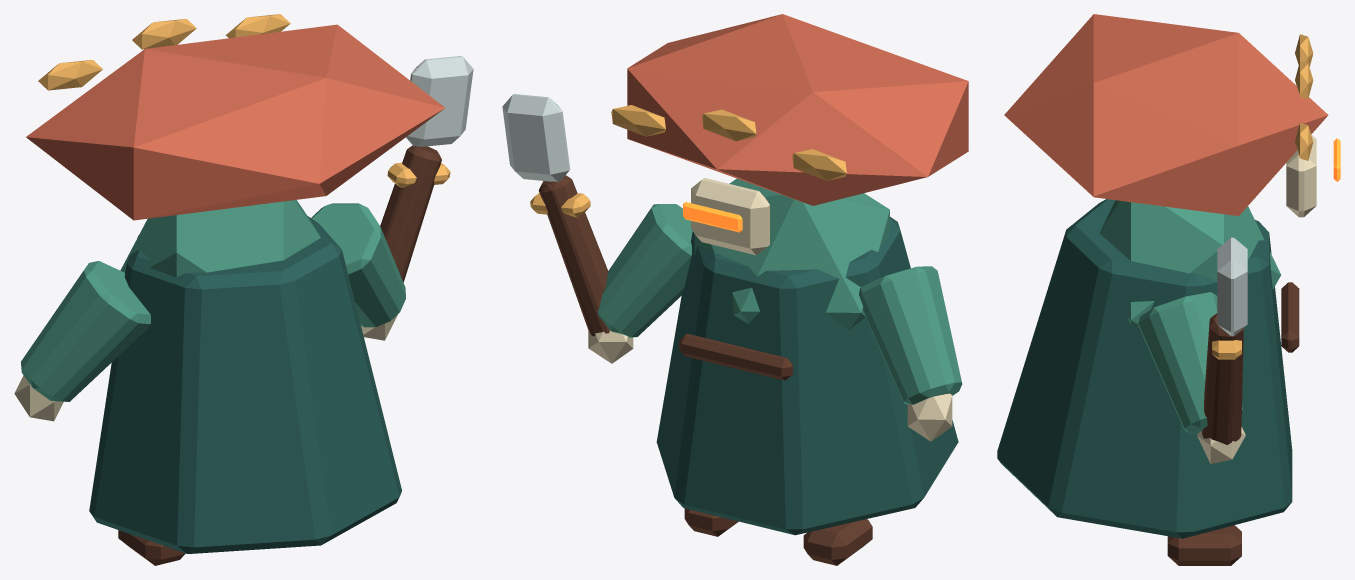
Rendered from rattlecap_runner_v1.glb.
The picture shows the model from 3 angles, left to right: view 1: azimuth 30°, elevation 25°; view 2: azimuth 150°, elevation 25°; view 3: azimuth 270°, elevation 25°; orthographic projection. The views are drawn at different scales.
Visible parts, largest first — view 1: Rattlecap_Cloak, Rattlecap_Cap, Rattlecap_ArmMesh_L, Rattlecap_Torso, Rattlecap_ArmMesh_R, Rattlecap_Cleaver, Rattlecap_CleaverGrip, Rattlecap_CapMark_0, Rattlecap_CapMark_1, Rattlecap_Hand_L, Rattlecap_Boot_L, Rattlecap_CapMark_2 (+1 smaller); view 2: Rattlecap_Cloak, Rattlecap_Cap, Rattlecap_Torso, Rattlecap_ArmMesh_L, Rattlecap_ArmMesh_R, Rattlecap_CleaverGrip, Rattlecap_Cleaver, Rattlecap_Mask, Rattlecap_Belt, Rattlecap_Boot_L, Rattlecap_Hand_L, Rattlecap_CapMark_0 (+6 smaller); view 3: Rattlecap_Cloak, Rattlecap_Cap, Rattlecap_Torso, Rattlecap_ArmMesh_R, Rattlecap_CleaverGrip, Rattlecap_Cleaver, Rattlecap_Boot_R, Rattlecap_Mask, Rattlecap_Belt, Rattlecap_Hand_R, Rattlecap_CleaverGuard, Rattlecap_CapMark_1 (+1 smaller).
Part boxes in pixels (x1,y1,x2,y2): Rattlecap_Cloak: [89, 216, 401, 553]; Rattlecap_Cap: [26, 24, 444, 220]; Rattlecap_ArmMesh_L: [21, 261, 150, 401]; Rattlecap_Torso: [120, 200, 320, 277]; Rattlecap_ArmMesh_R: [311, 203, 405, 327]; Rattlecap_Cleaver: [406, 56, 473, 146]; Rattlecap_CleaverGrip: [380, 145, 441, 282]; Rattlecap_CapMark_0: [38, 60, 102, 90]; Rattlecap_CapMark_1: [132, 19, 196, 49]; Rattlecap_Hand_L: [14, 375, 63, 421]; Rattlecap_Boot_L: [118, 530, 185, 565]; Rattlecap_CapMark_2: [225, 14, 290, 38]; Rattlecap_Cloak: [656, 217, 958, 535]; Rattlecap_Cap: [627, 14, 968, 205]; Rattlecap_Torso: [694, 178, 889, 329]; Rattlecap_ArmMesh_L: [859, 266, 962, 404]; Rattlecap_ArmMesh_R: [597, 204, 692, 337]; Rattlecap_CleaverGrip: [538, 175, 609, 336]; Rattlecap_Cleaver: [502, 94, 570, 181]; Rattlecap_Mask: [691, 178, 769, 255]; Rattlecap_Belt: [679, 333, 792, 380]; Rattlecap_Boot_L: [803, 519, 872, 565]; Rattlecap_Hand_L: [907, 393, 952, 441]; Rattlecap_CapMark_0: [792, 149, 846, 180]; Rattlecap_Cloak: [997, 199, 1292, 538]; Rattlecap_Cap: [1004, 14, 1328, 216]; Rattlecap_Torso: [1099, 200, 1280, 326]; Rattlecap_ArmMesh_R: [1138, 292, 1242, 434]; Rattlecap_CleaverGrip: [1202, 313, 1243, 444]; Rattlecap_Cleaver: [1217, 237, 1247, 336]; Rattlecap_Boot_R: [1167, 525, 1241, 565]; Rattlecap_Mask: [1286, 135, 1316, 217]; Rattlecap_Belt: [1281, 282, 1299, 352]; Rattlecap_Hand_R: [1197, 427, 1245, 463]; Rattlecap_CleaverGuard: [1212, 340, 1241, 359]; Rattlecap_CapMark_1: [1295, 61, 1313, 98].
Bounding box in the file's own units: 1.86 × 1.89 × 1.25.
